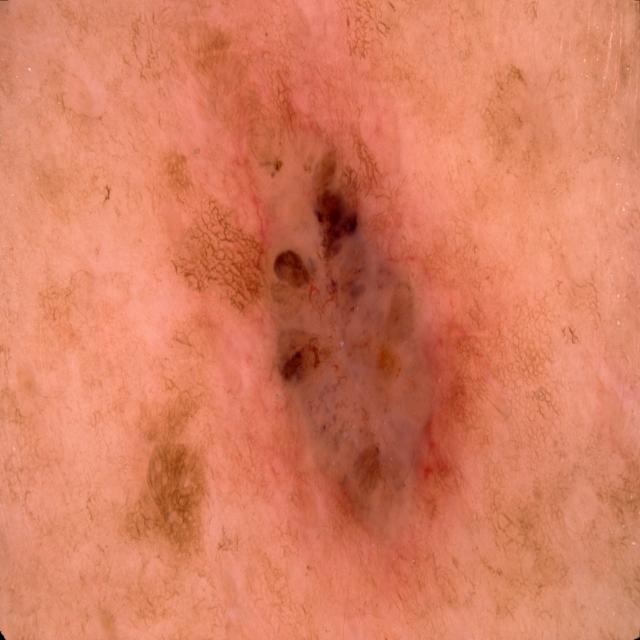Skin-Cancer Squamous cell carcinoma: (31, 36, 612, 622)
